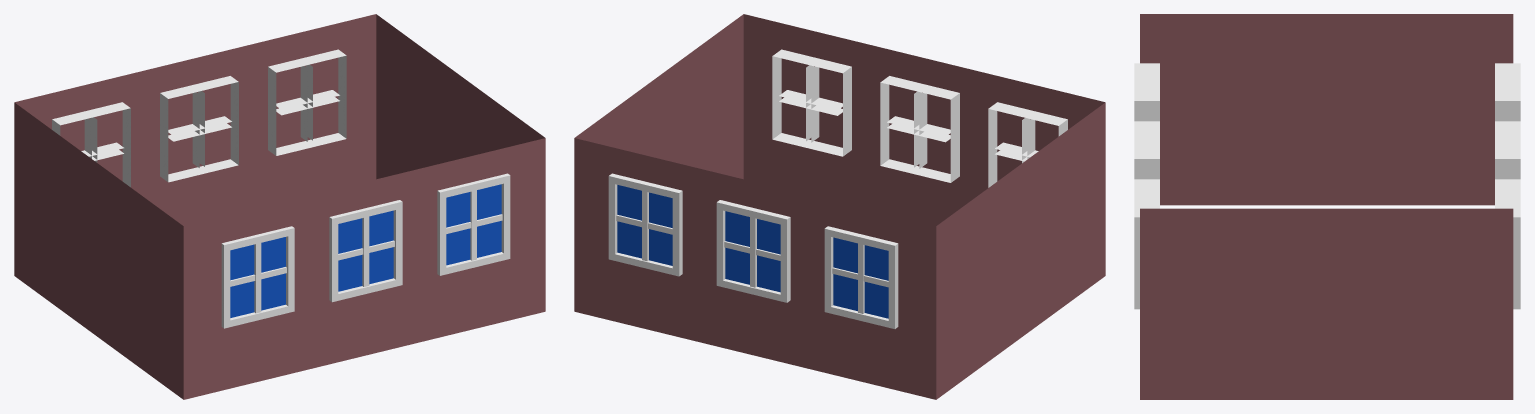
Rendered from CityBuildingB_04_flooor.fbx.
The picture shows the model from 3 angles, left to right: view 1: azimuth 30°, elevation 25°; view 2: azimuth 150°, elevation 25°; view 3: azimuth 270°, elevation 25°; orthographic projection. The views are drawn at different scales.
Parts seen in each view (by area): view 1: CityBuildingB_04_flooor; view 2: CityBuildingB_04_flooor; view 3: CityBuildingB_04_flooor.
Boxes of the visible parts, <box> form: CityBuildingB_04_flooor: <box>14,14,545,399</box>; CityBuildingB_04_flooor: <box>574,14,1105,399</box>; CityBuildingB_04_flooor: <box>1134,14,1520,399</box>.
Size of the model in its own units: 0.6706 by 0.3075 by 0.563.
